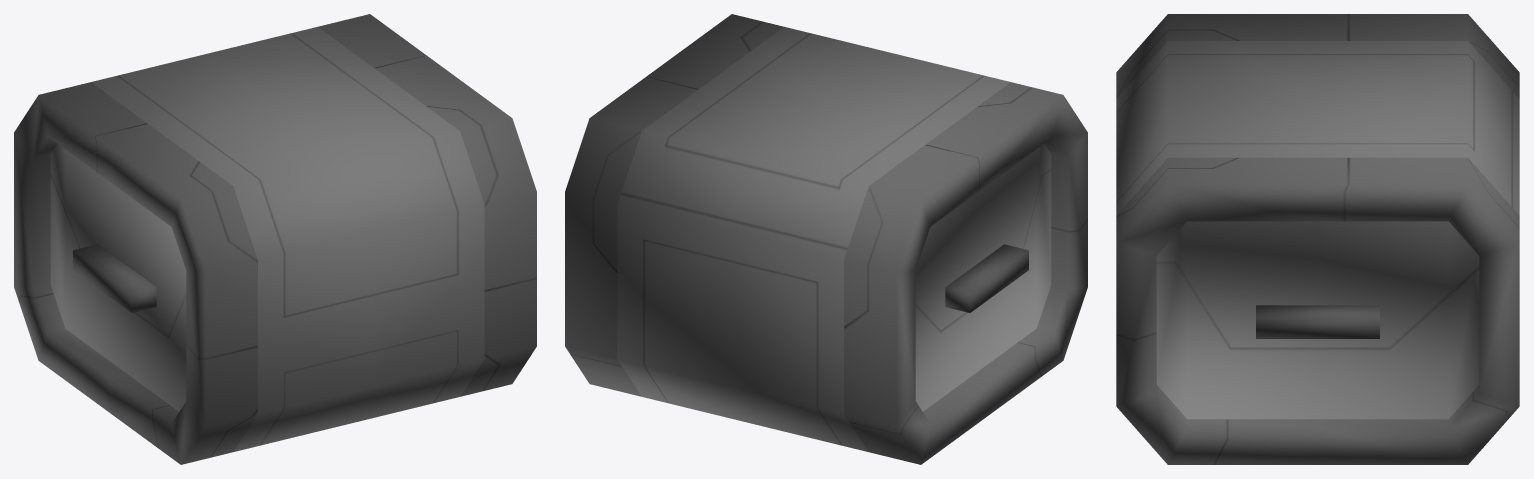
File: Model_Prop_Crate.fbx
3 views of the same model, side by side, from view 1: azimuth 30°, elevation 25°; view 2: azimuth 150°, elevation 25°; view 3: azimuth 270°, elevation 25° (orthographic). The views are drawn at different scales.
Visible parts, largest first — view 1: Cube.134; view 2: Cube.134; view 3: Cube.134.
Boxes of the visible parts, x1,y1,x2,y2 form: Cube.134: [14, 14, 536, 464]; Cube.134: [565, 14, 1087, 464]; Cube.134: [1116, 14, 1519, 464].
Size of the model in its own units: 1.82 by 1.34 by 1.74.
